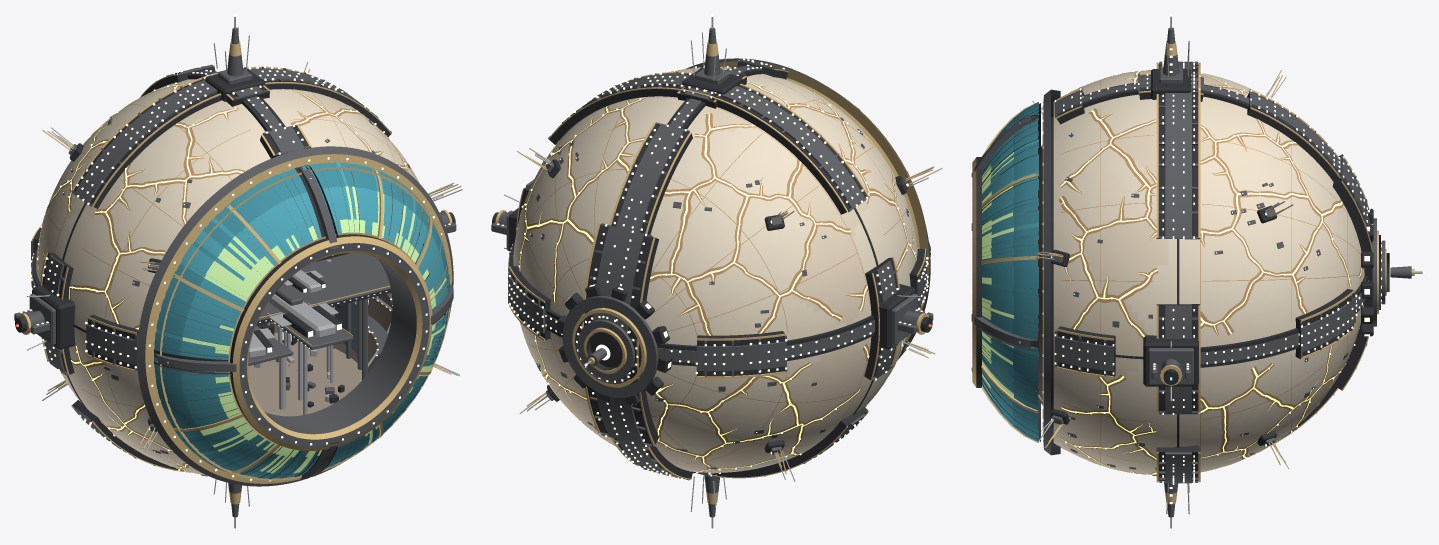
The picture shows the model from 3 angles, left to right: view 1: azimuth 30°, elevation 25°; view 2: azimuth 150°, elevation 25°; view 3: azimuth 270°, elevation 25°; orthographic projection.
Visible parts, largest first — view 1: DC_iris, DC_shell, DC_bands, DC_pupil, DC_interior, DC_eye_frame, DC_veins, DC_arms, DC_masts, DC_antennas; view 2: DC_shell, DC_bands, DC_veins, DC_hub, DC_eye_frame, DC_arms, DC_masts, DC_antennas; view 3: DC_shell, DC_bands, DC_iris, DC_veins, DC_eye_frame, DC_pupil, DC_arms, DC_hub, DC_masts, DC_antennas.
Boxes of the visible parts, x1,y1,x2,y2 form: DC_iris: (154,162,453,480); DC_shell: (36,79,419,474); DC_bands: (29,64,391,472); DC_pupil: (225,174,432,450); DC_interior: (248,236,392,416); DC_eye_frame: (137,146,453,486); DC_veins: (36,82,412,476); DC_arms: (14,194,456,350); DC_masts: (205,14,265,530); DC_antennas: (42,62,462,451); DC_shell: (513,67,917,472); DC_bands: (506,58,928,480); DC_veins: (516,66,917,474); DC_hub: (556,284,672,405); DC_eye_frame: (686,58,930,360); DC_arms: (491,194,933,350); DC_masts: (682,14,742,530); DC_antennas: (517,148,942,481); DC_shell: (1053,70,1364,475); DC_bands: (1054,60,1372,484); DC_iris: (971,102,1040,442); DC_veins: (1058,69,1362,475); DC_eye_frame: (1042,89,1060,455); DC_pupil: (971,145,1042,399); DC_arms: (1143,335,1198,401); DC_hub: (1359,208,1424,336); DC_masts: (1151,14,1191,530); DC_antennas: (1032,69,1293,468).
Size of the model in its own units: 727 by 819 by 652.
